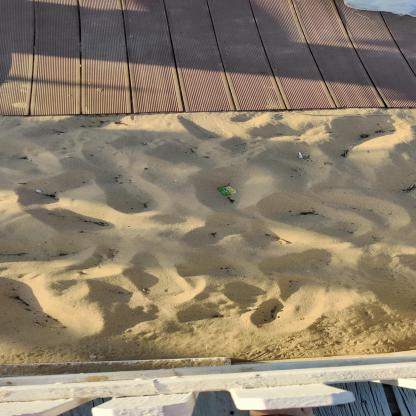plastik: (219, 187, 239, 196)
